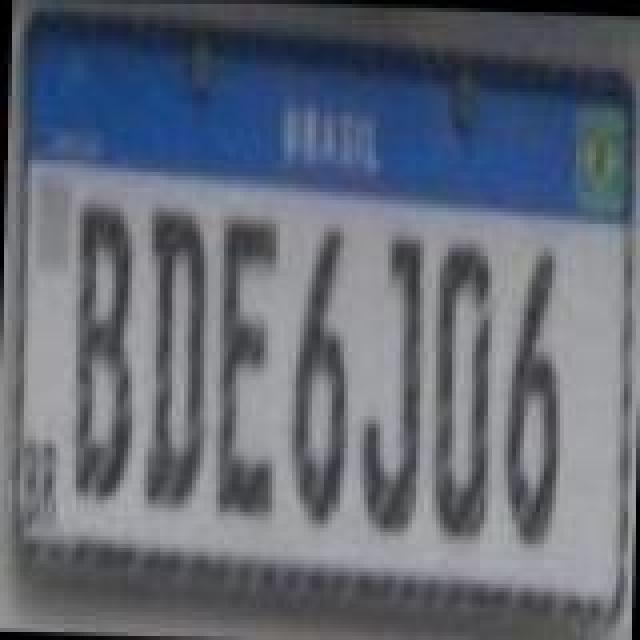6: (280, 212, 356, 528), (494, 244, 566, 548)
B: (64, 194, 140, 510)
D: (136, 196, 212, 516), (428, 242, 496, 538)
E: (208, 210, 284, 526)
J: (352, 230, 428, 538)
